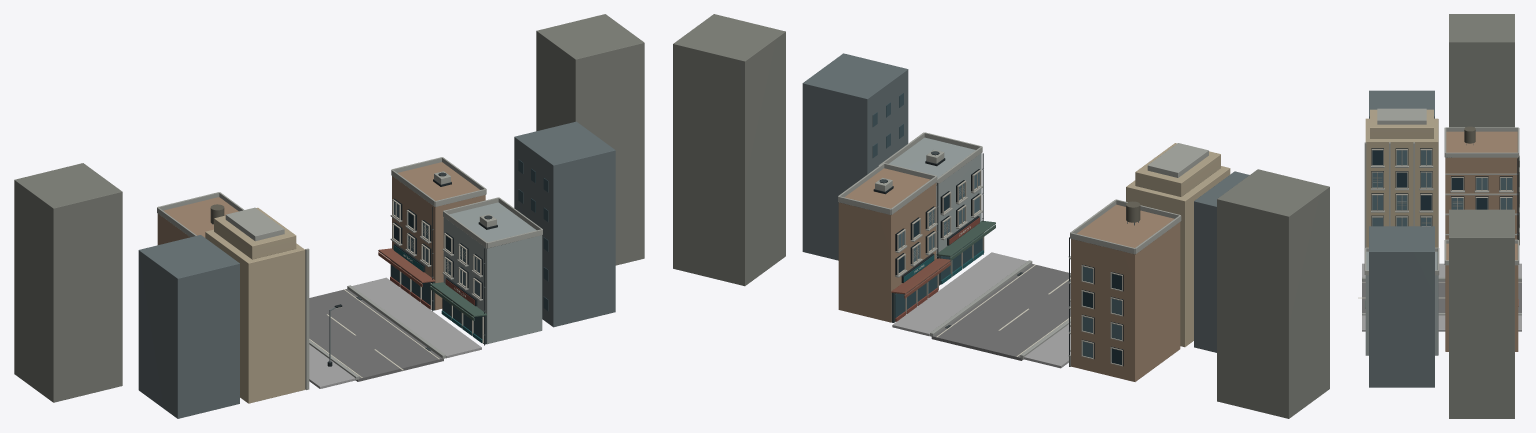
The model's file is city_hd_04.glb.
3 renders of one model, left to right at view 1: azimuth 30°, elevation 25°; view 2: azimuth 150°, elevation 25°; view 3: azimuth 270°, elevation 25°, orthographic. The views are drawn at different scales.
Visible parts, largest first — view 1: CITY_distant_1, CITY_distant_0, CITY_wall_sand, Mixed use shop volume, CITY_PBR_asphalt, CITY_wall_brick_tan, CITY_trim, CITY_PBR_pavement, CITY_frame, CITY_shop_glass, CITY_curb, CITY_lamp (+5 smaller); view 2: CITY_distant_1, CITY_wall_brick_tan, CITY_distant_0, CITY_PBR_asphalt, CITY_wall_sand, CITY_trim, CITY_PBR_pavement, Mixed use shop volume, CITY_frame, CITY_glass, CITY_shop_glass, CITY_curb (+5 smaller); view 3: CITY_distant_1, CITY_distant_0, CITY_wall_sand, CITY_wall_brick_tan, CITY_trim, CITY_glass, CITY_frame, CITY_recess, CITY_glass_dark, Mixed use shop volume, CITY_PBR_asphalt, CITY_PBR_pavement (+1 smaller).
Boxes of the visible parts, bbox=[...] form: CITY_distant_1: bbox=[14, 14, 644, 402]; CITY_distant_0: bbox=[138, 121, 615, 418]; CITY_wall_sand: bbox=[205, 207, 305, 403]; Mixed use shop volume: bbox=[443, 202, 542, 344]; CITY_PBR_asphalt: bbox=[309, 289, 443, 381]; CITY_wall_brick_tan: bbox=[157, 162, 485, 310]; CITY_trim: bbox=[157, 157, 542, 389]; CITY_PBR_pavement: bbox=[309, 277, 481, 388]; CITY_frame: bbox=[392, 199, 483, 343]; CITY_shop_glass: bbox=[391, 261, 482, 338]; CITY_curb: bbox=[309, 285, 445, 379]; CITY_lamp: bbox=[378, 248, 435, 286]; CITY_distant_1: bbox=[673, 14, 1329, 418]; CITY_wall_brick_tan: bbox=[838, 168, 1180, 381]; CITY_distant_0: bbox=[802, 53, 1249, 352]; CITY_PBR_asphalt: bbox=[931, 264, 1070, 360]; CITY_wall_sand: bbox=[1126, 143, 1230, 347]; CITY_trim: bbox=[838, 132, 1208, 366]; CITY_PBR_pavement: bbox=[892, 252, 1070, 368]; Mixed use shop volume: bbox=[889, 137, 981, 257]; CITY_frame: bbox=[897, 169, 1122, 366]; CITY_glass: bbox=[898, 172, 1121, 357]; CITY_shop_glass: bbox=[895, 234, 982, 317]; CITY_curb: bbox=[930, 260, 1070, 358]; CITY_distant_1: bbox=[1449, 14, 1514, 418]; CITY_distant_0: bbox=[1369, 90, 1434, 387]; CITY_wall_sand: bbox=[1365, 109, 1438, 247]; CITY_wall_brick_tan: bbox=[1445, 131, 1518, 351]; CITY_trim: bbox=[1364, 108, 1519, 275]; CITY_glass: bbox=[1372, 150, 1519, 239]; CITY_frame: bbox=[1371, 149, 1519, 245]; CITY_recess: bbox=[1371, 148, 1518, 239]; CITY_glass_dark: bbox=[1372, 150, 1519, 227]; Mixed use shop volume: bbox=[1365, 251, 1438, 355]; CITY_PBR_asphalt: bbox=[1362, 281, 1521, 312]; CITY_PBR_pavement: bbox=[1362, 263, 1521, 331].
Bounding box in the file's own units: 57.3 × 20.26 × 16.4.
